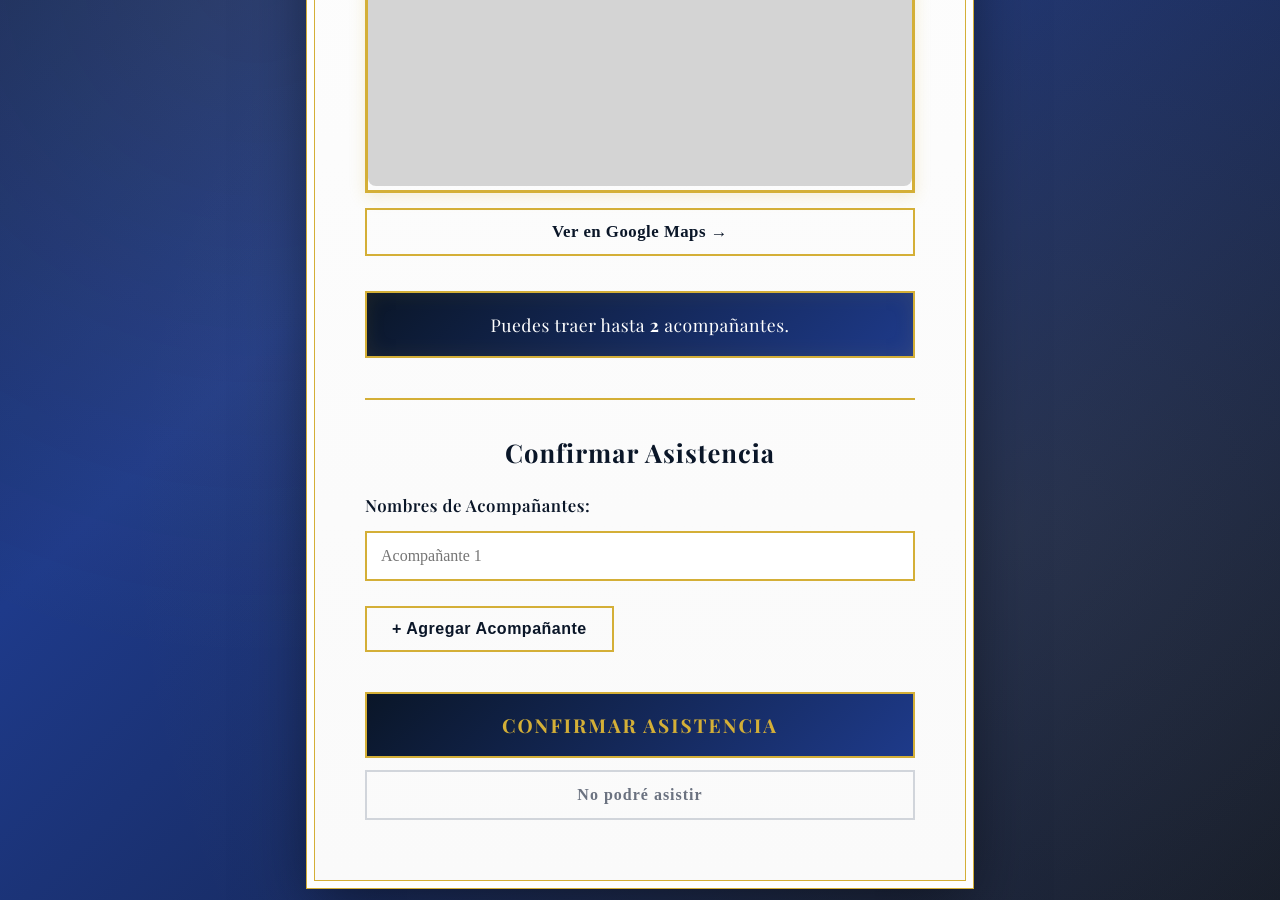
Scenario: InvitationPage › Test de envío exitoso de confirmación › should successfully submit confirmation with companions
This screenshot has width=1280, height=900.
(page scrolled)
// Add a companion
Click the button "+ Agregar Acompañante" at [489, 629], box [365,606,614,652]
(page scrolled)
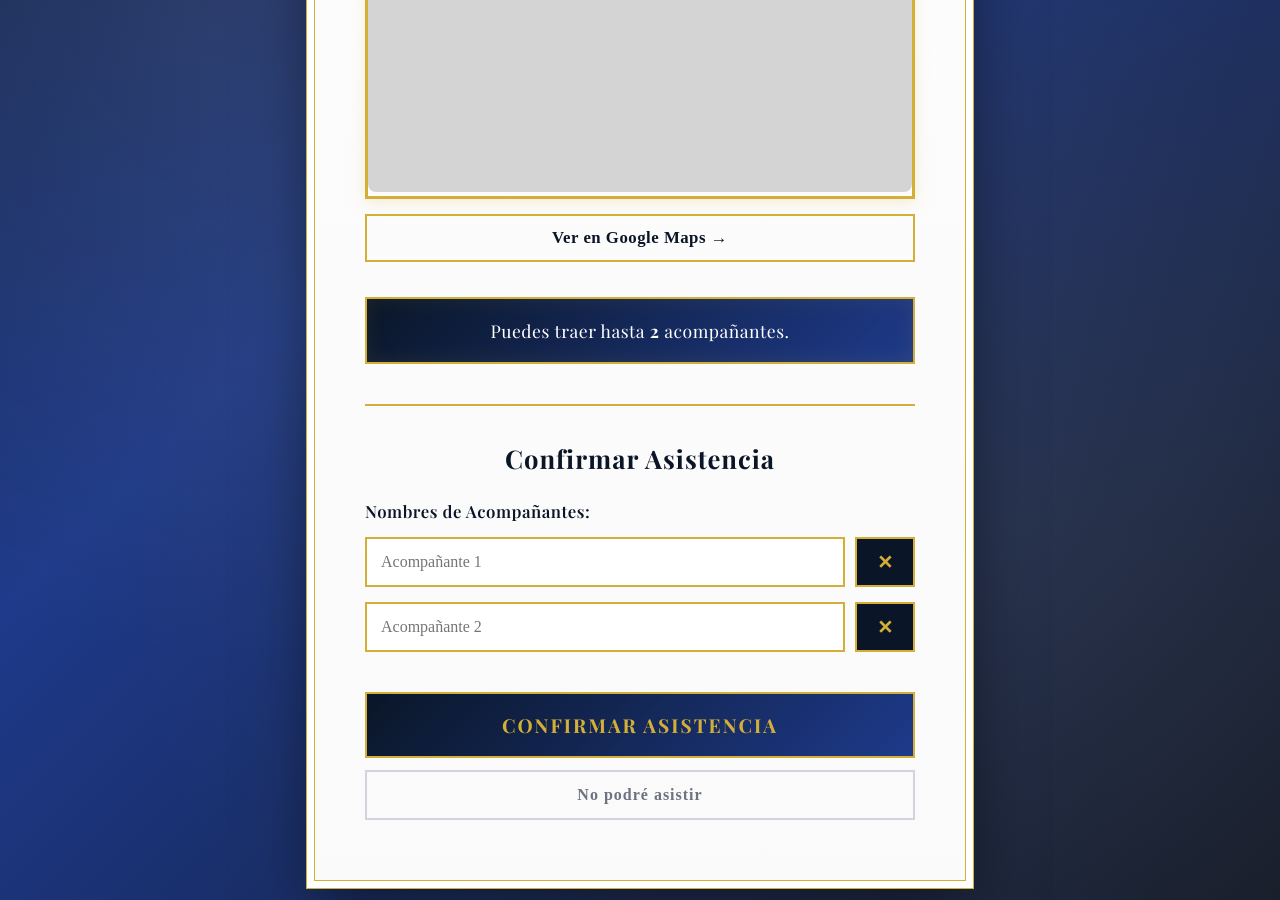
// Fill in companion names
Type "Companion 1" into the field with placeholder "Acompañante 1" at [605, 562], box [365,537,845,587]
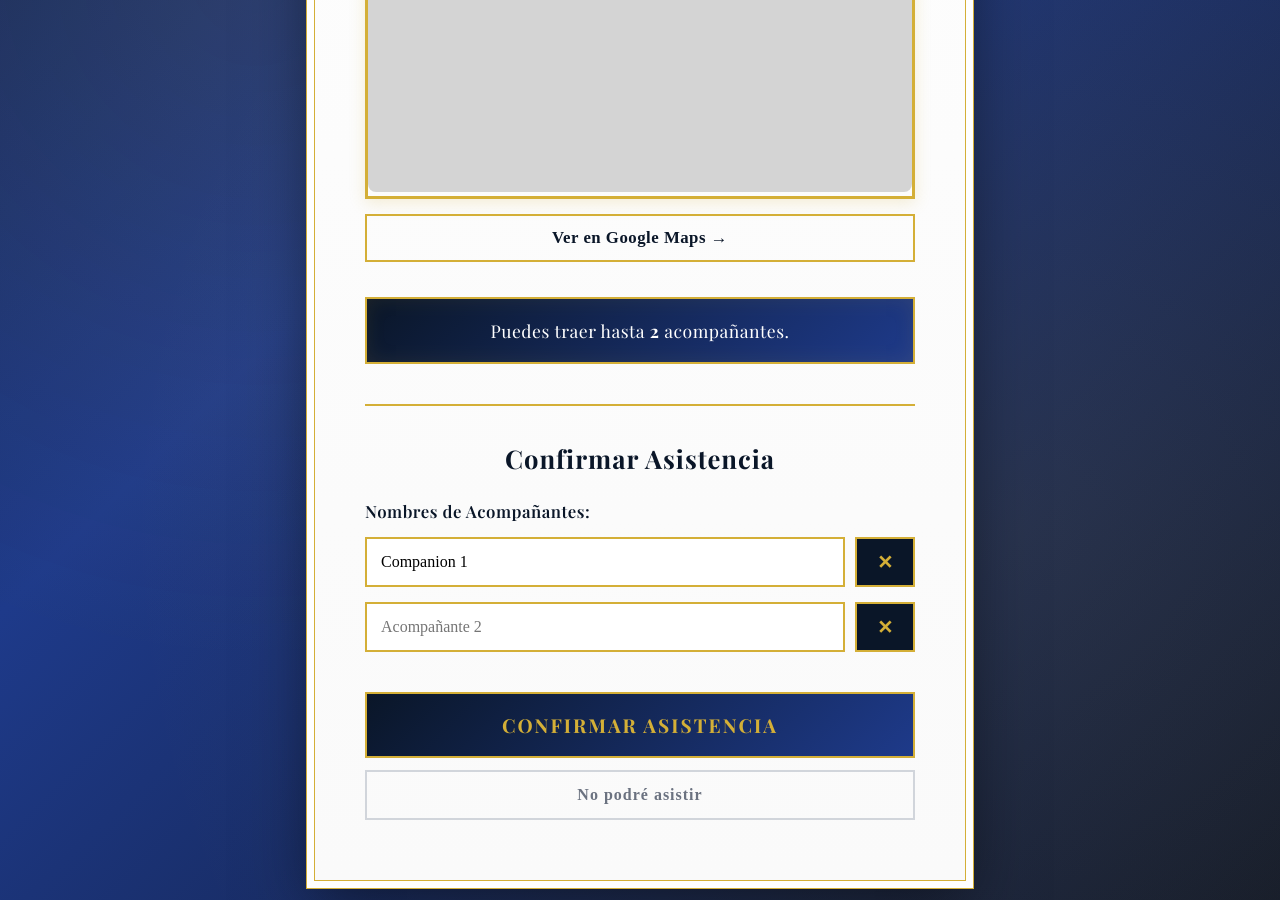
Type "Companion 2" into the field with placeholder "Acompañante 2" at [605, 627], box [365,602,845,652]
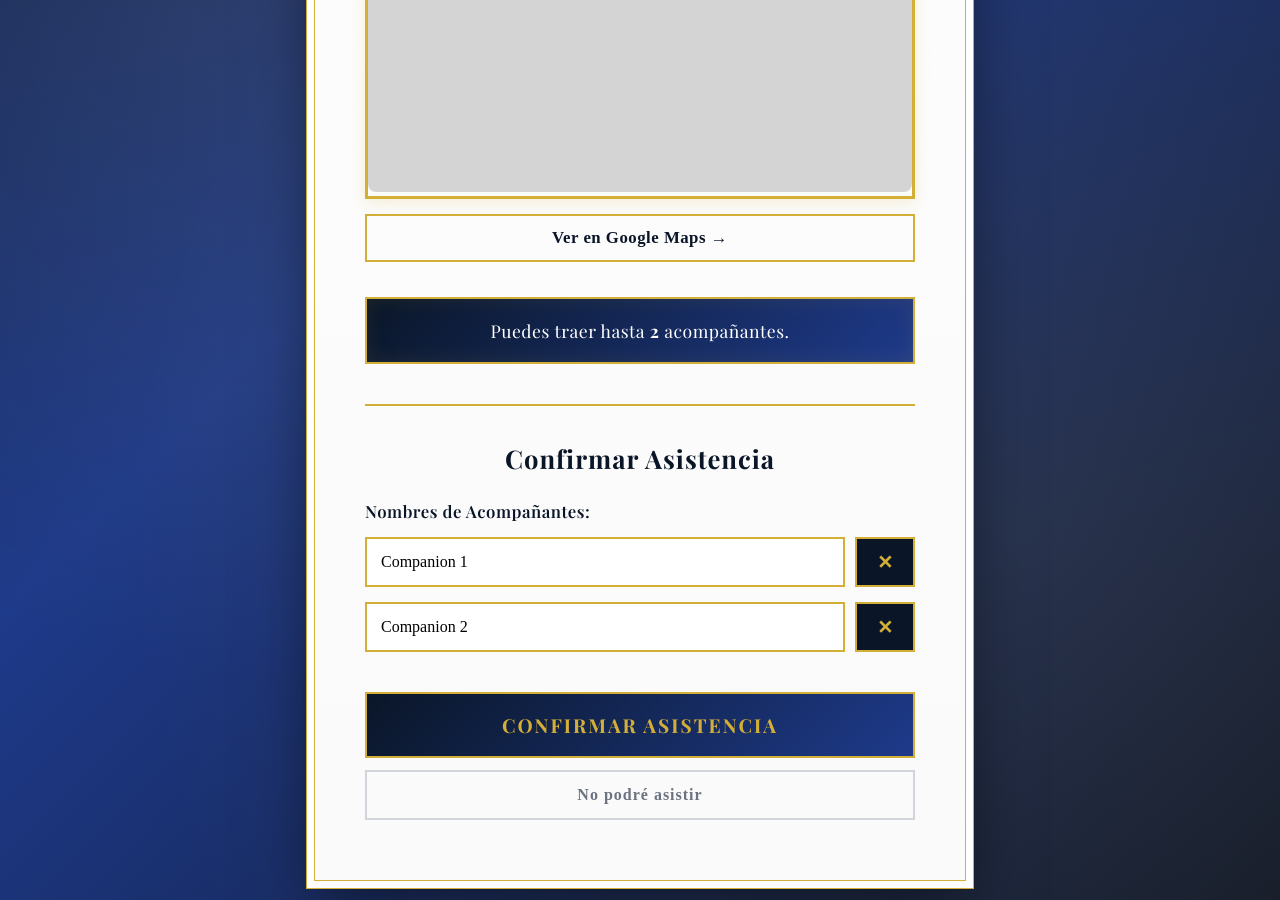
Click the button "Confirmar Asistencia" at [640, 725], box [365,692,915,758]
(page scrolled)
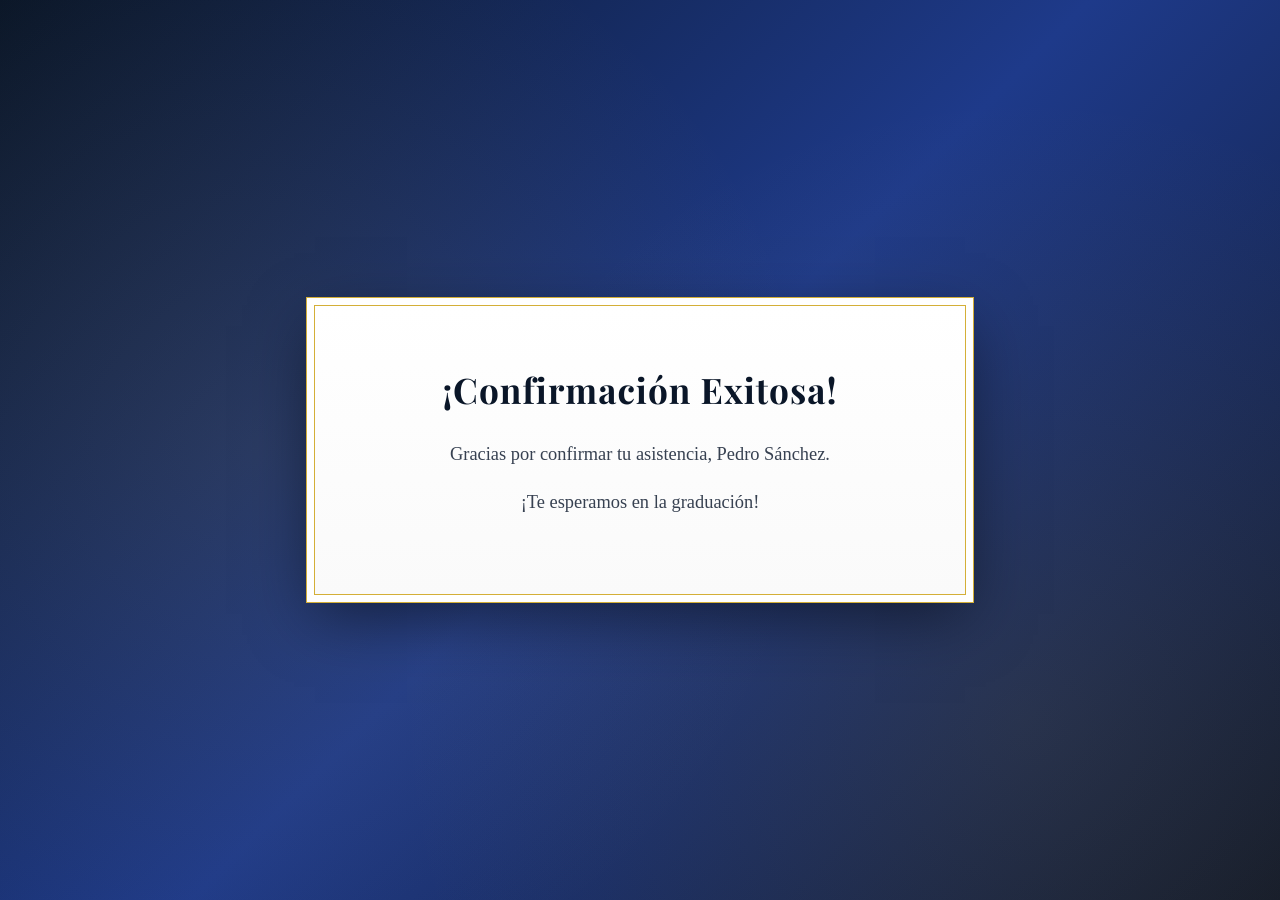
Check: the heading "¡Confirmación Exitosa!" is shown, box [442,366,838,413]
